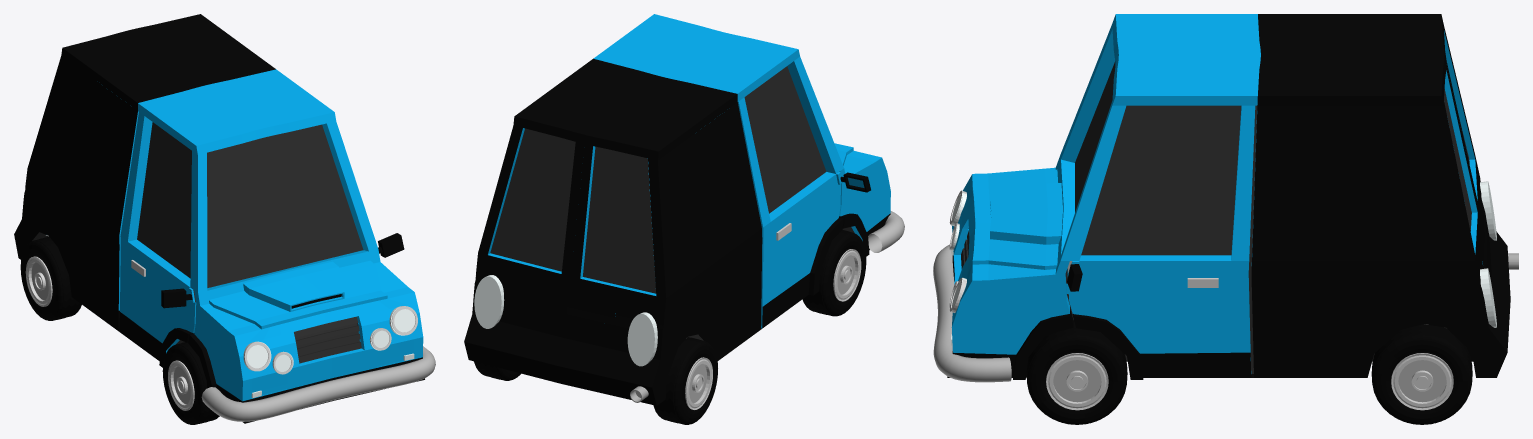
Rendered from CR-BUS-5B.fbx.
3 renders of one model, left to right at view 1: azimuth 30°, elevation 25°; view 2: azimuth 150°, elevation 25°; view 3: azimuth 270°, elevation 25°, orthographic. The views are drawn at different scales.
Visible parts, largest first — view 1: BODY, NurbsPath, WHEEL.004, WHEEL.001; view 2: BODY, WHEEL.004, WHEEL.001, NurbsPath, WHEEL.002; view 3: BODY, WHEEL.002, WHEEL.003, NurbsPath.
Part boxes in pixels (x1,y1,x2,y2): BODY: (14,14,424,423); NurbsPath: (201,346,435,421); WHEEL.004: (20,237,81,320); WHEEL.001: (162,342,219,424); BODY: (464,14,890,405); WHEEL.004: (653,337,717,424); WHEEL.001: (802,230,866,316); NurbsPath: (868,211,904,252); WHEEL.002: (474,361,520,380); BODY: (947,14,1510,379); WHEEL.002: (1371,324,1472,424); WHEEL.003: (1026,328,1127,424); NurbsPath: (933,244,1011,382).
Bounding box in the file's own units: 131 × 134 × 227.
